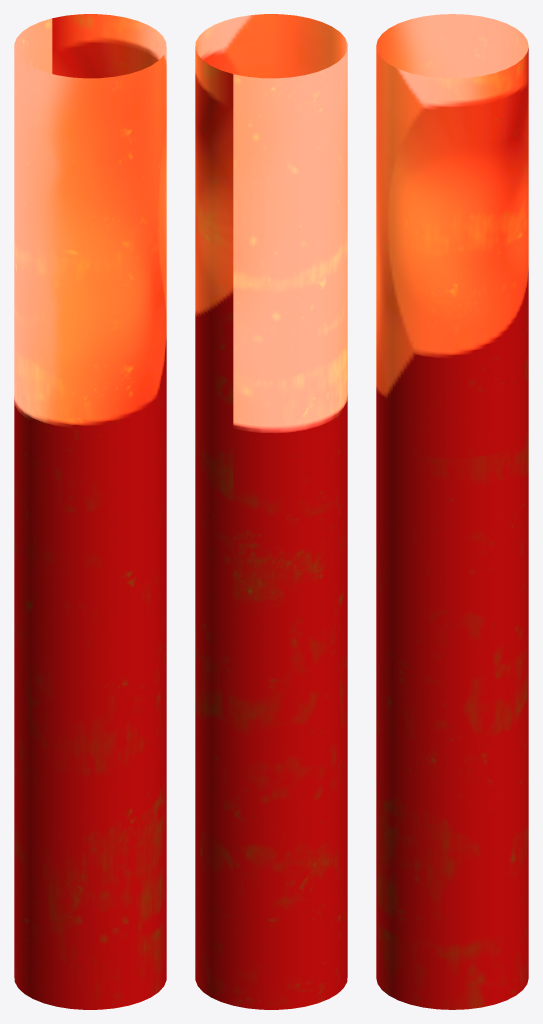
File: SM_PlasticPipe_straight_01.fbx
The picture shows the model from 3 angles, left to right: view 1: azimuth 30°, elevation 25°; view 2: azimuth 150°, elevation 25°; view 3: azimuth 270°, elevation 25°; orthographic projection.
Visible parts, largest first — view 1: SM_PlasticPipe_straight_01_LOD0; view 2: SM_PlasticPipe_straight_01_LOD0; view 3: SM_PlasticPipe_straight_01_LOD0.
Part boxes in pixels (x1,y1,x2,y2): SM_PlasticPipe_straight_01_LOD0: [14, 14, 166, 1009]; SM_PlasticPipe_straight_01_LOD0: [195, 14, 347, 1009]; SM_PlasticPipe_straight_01_LOD0: [376, 14, 528, 1009].
Size of the model in its own units: 14.85 by 14.85 by 100.
